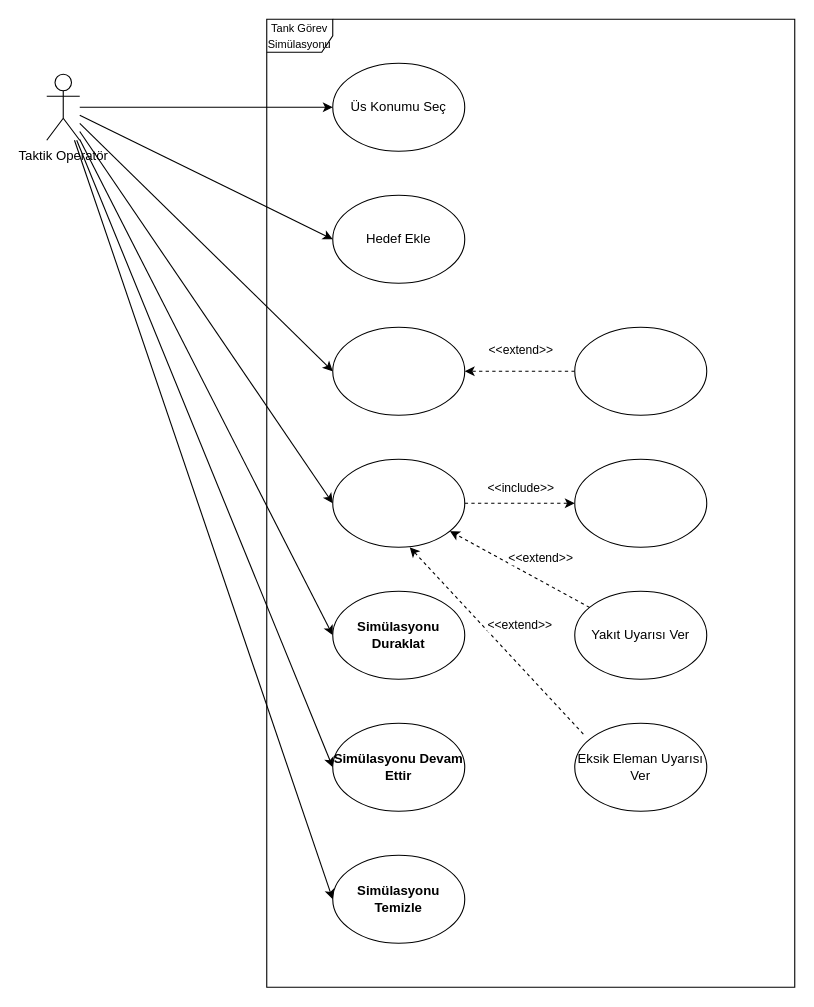
The diagram is 814 pixels wide and 1007 high, and some of its shapes have lost their labels. The shapes that lost their labels are listed below. From the top down, each one's centre as x and y in pixels, then its label:
the point at 398,370: Parametreleri Gir
the point at 640,370: Geçersiz Değer Uyarısı Ver
the point at 398,502: Simülasyonu Başlat
the point at 640,502: Rotayı Hesapla
